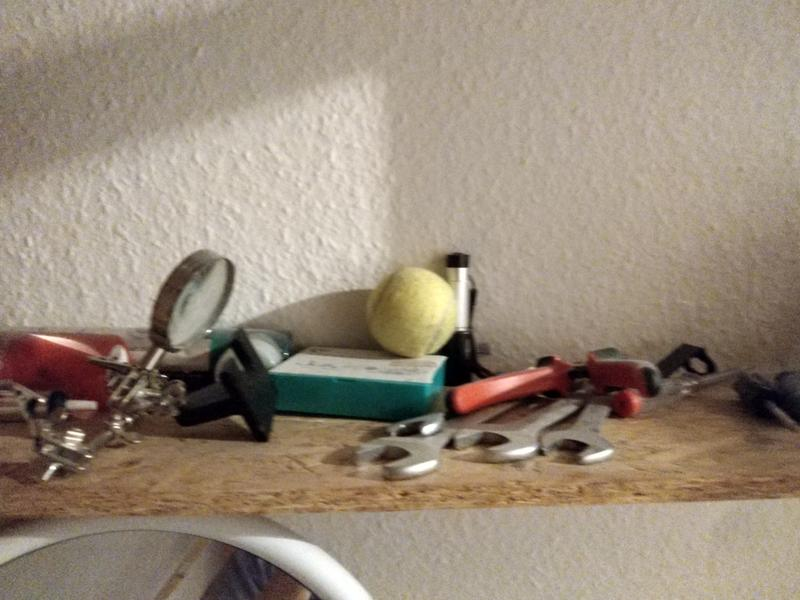Tennisball: (364, 261, 460, 359)
